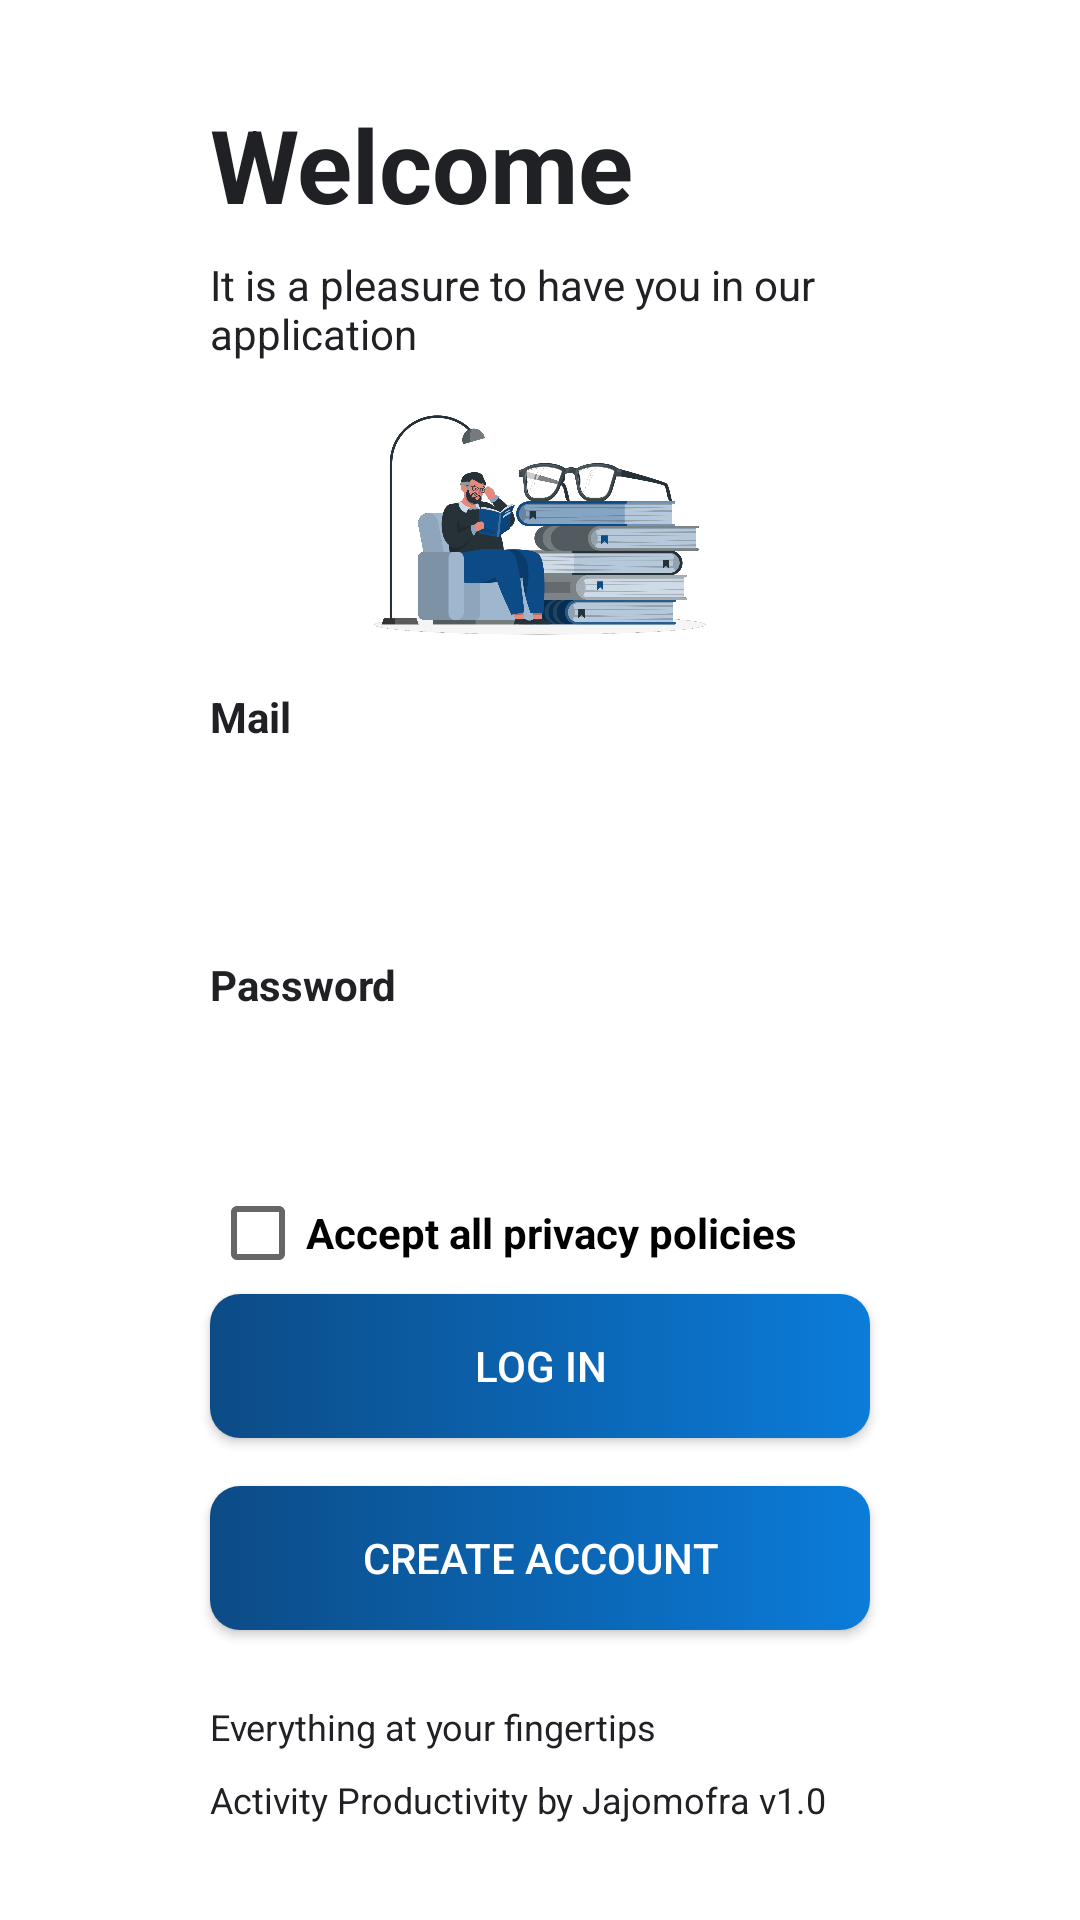

Locate icon controls on the screen. Image size 1080*1920, boxes as BBox(x1, y1, x2, y2).
reading glasses rafiki: BBox(374, 415, 706, 635)
